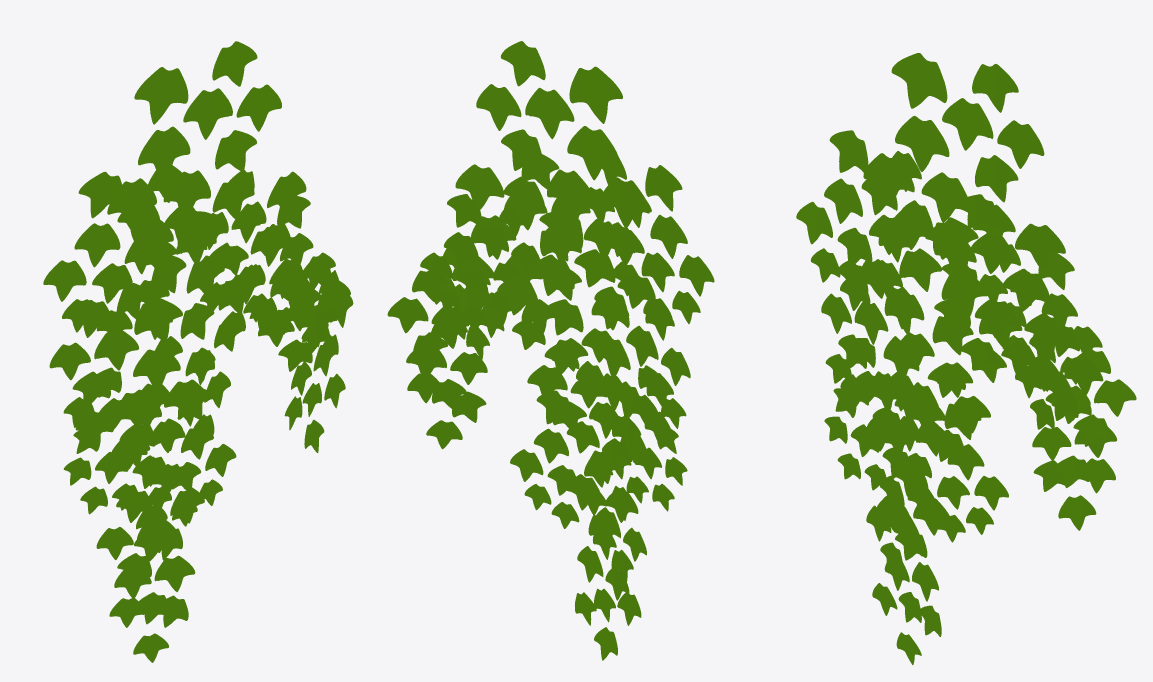
Rendered from vine_1.glb.
The picture shows the model from 3 angles, left to right: view 1: azimuth 30°, elevation 25°; view 2: azimuth 150°, elevation 25°; view 3: azimuth 330°, elevation 25°; orthographic projection. The views are drawn at different scales.
Visible parts, largest first — view 1: Prop_Vine1; view 2: Prop_Vine1; view 3: Prop_Vine1.
Boxes of the visible parts, x1,y1,x2,y2 form: Prop_Vine1: (43, 41, 353, 662); Prop_Vine1: (387, 41, 714, 660); Prop_Vine1: (796, 53, 1136, 664).
Bounding box in the file's own units: 1.54 × 2.6 × 0.2189.
1 material, 1 textured.
